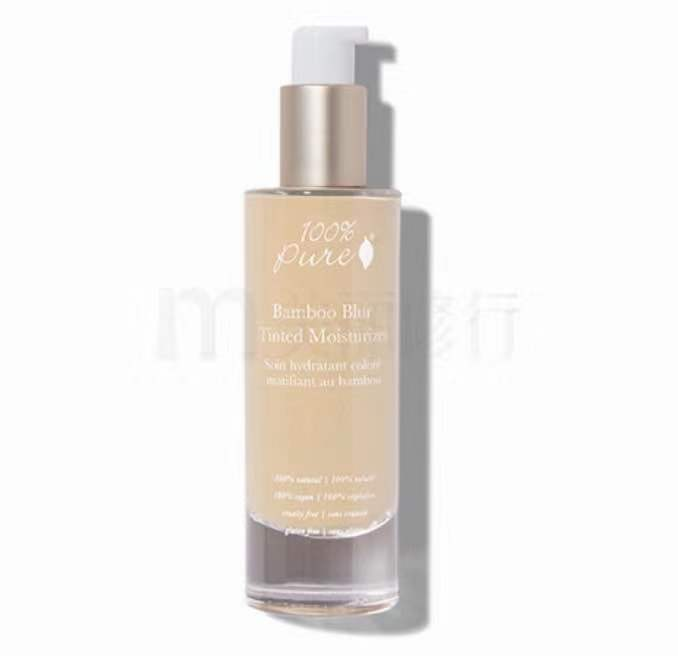cosmetic: (241, 28, 401, 606)
